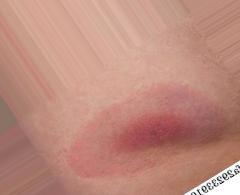Tick: (62, 65, 229, 188)
